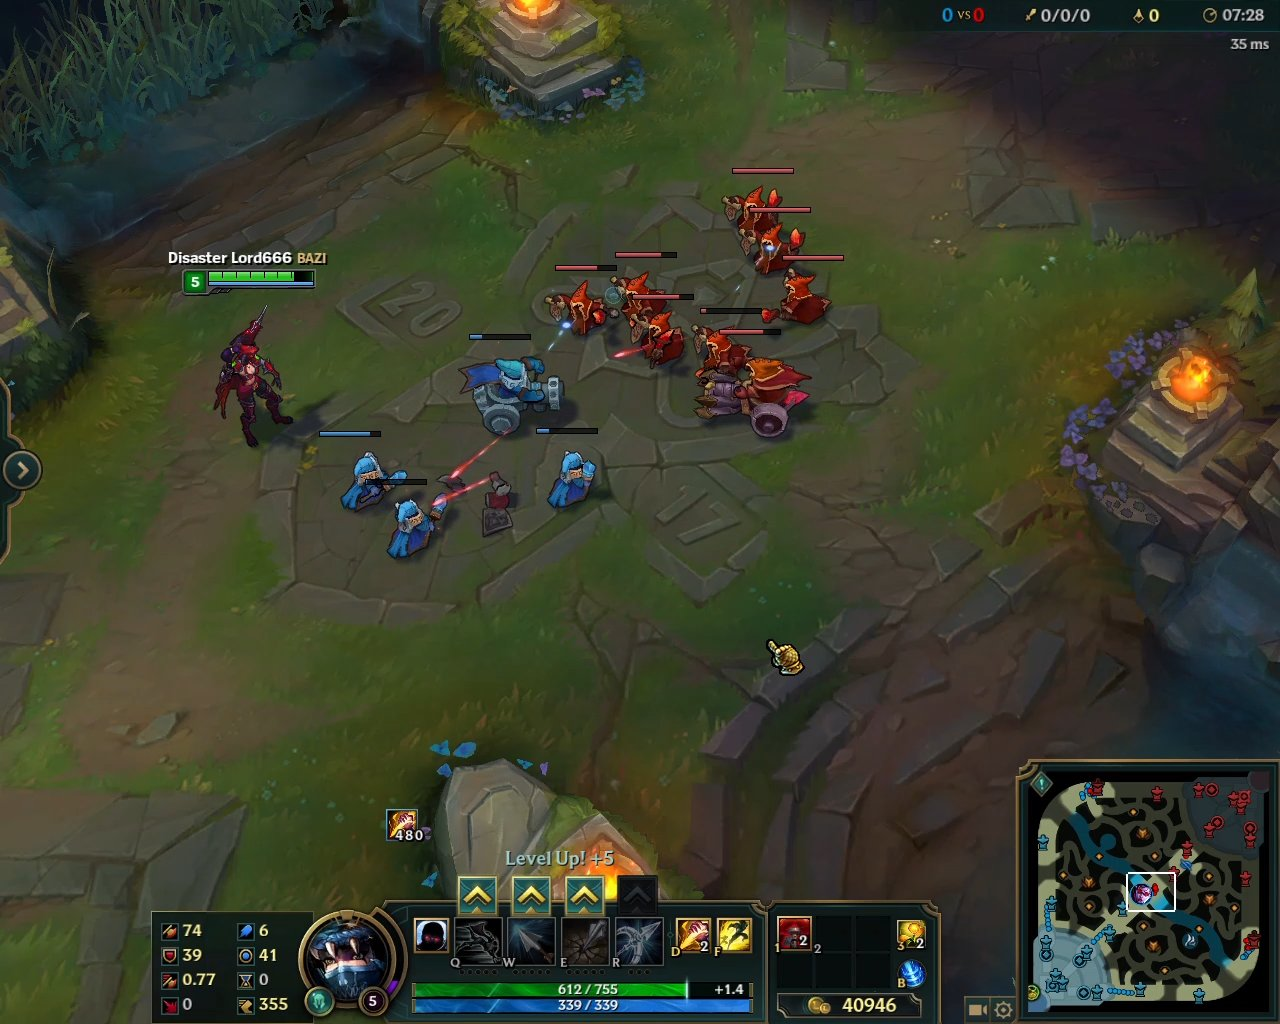EnemyMinion: (685, 327, 820, 442), (759, 254, 845, 325), (737, 207, 813, 286), (541, 265, 620, 340), (610, 250, 678, 326), (727, 167, 796, 236), (694, 309, 761, 380), (632, 294, 693, 372)
Vayne: (202, 303, 300, 460)
